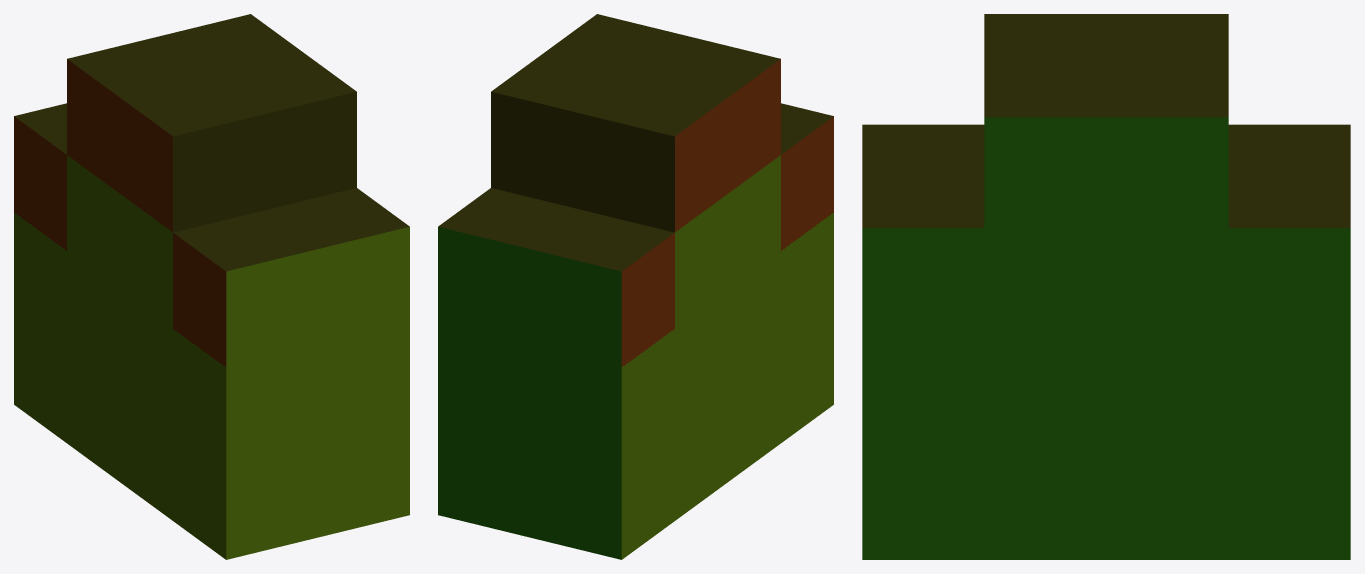
File: block_32.fbx
The picture shows the model from 3 angles, left to right: view 1: azimuth 30°, elevation 25°; view 2: azimuth 150°, elevation 25°; view 3: azimuth 270°, elevation 25°; orthographic projection. The views are drawn at different scales.
Parts seen in each view (by area): view 1: box.017; view 2: box.017; view 3: box.017.
Part boxes in pixels (box(x1,y1,x2,y2)): box.017: box(14, 14, 409, 559); box.017: box(438, 14, 833, 559); box.017: box(862, 14, 1350, 559).
Size of the model in its own units: 200 by 400 by 400.
